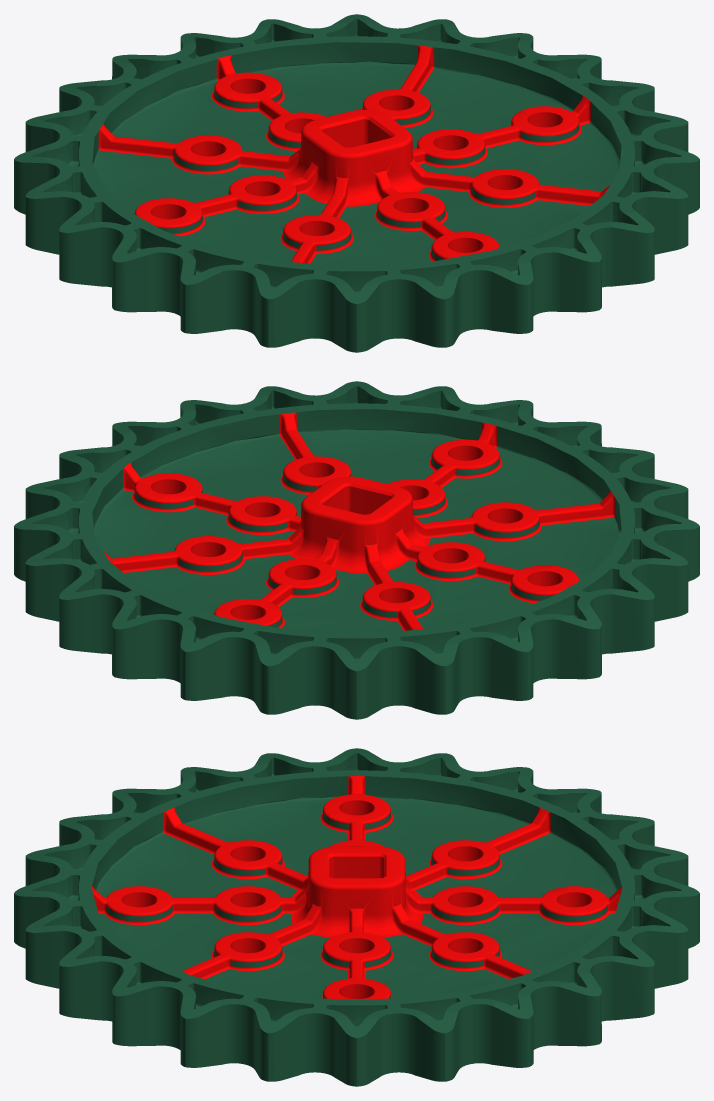
Rendered from 24T High Strength Sprocket (HS Bore) (276-3879).glb.
3 renders of one model, top to bottom at view 1: azimuth 30°, elevation 25°; view 2: azimuth 150°, elevation 25°; view 3: azimuth 270°, elevation 25°, orthographic.
Parts seen in each view (by area): view 1: 276-2252-006 Rev2; view 2: 276-2252-006 Rev2; view 3: 276-2252-006 Rev2.
Part boxes in pixels (x1,y1,x2,y2): 276-2252-006 Rev2: (14,14,699,352); 276-2252-006 Rev2: (14,381,699,719); 276-2252-006 Rev2: (14,748,699,1086).
Size of the model in its own units: 0.0802 by 0.0133 by 0.0801.
